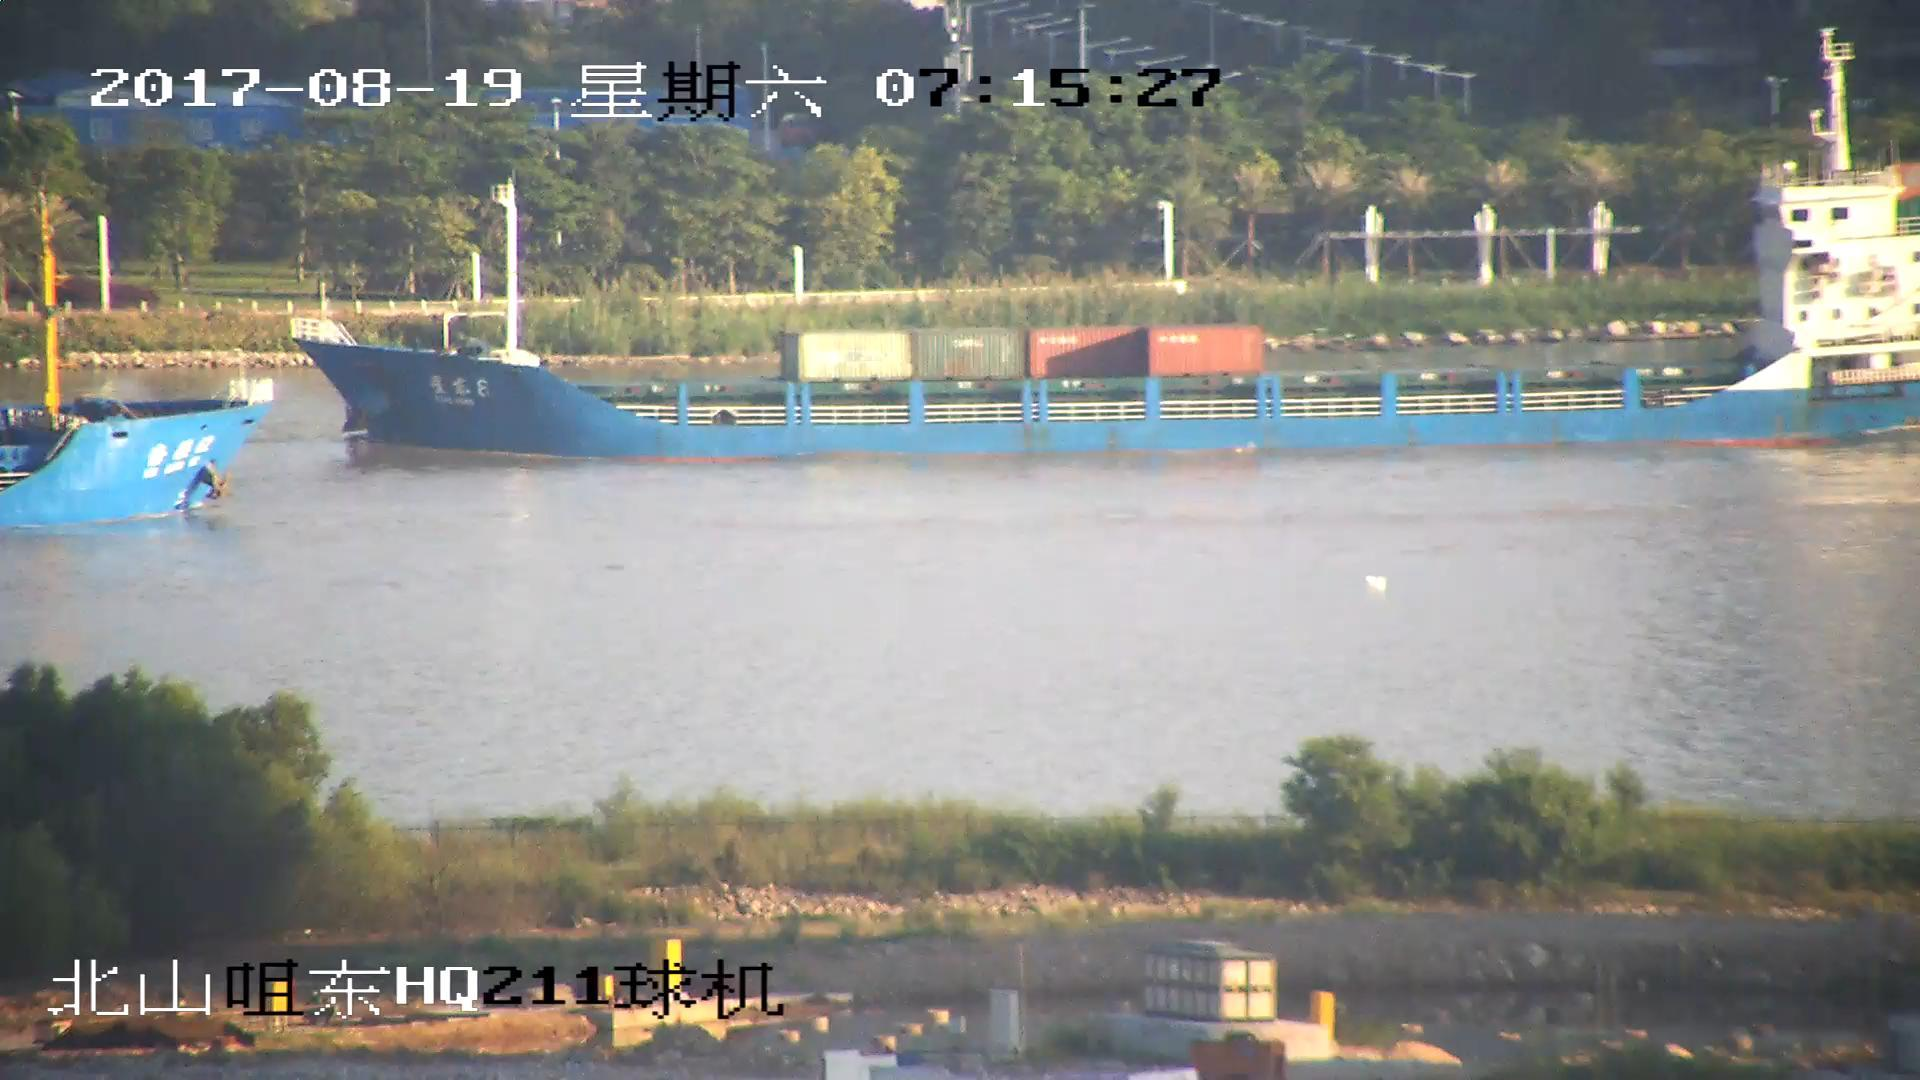Ship: (294, 100, 1920, 454), (3, 194, 265, 522)
